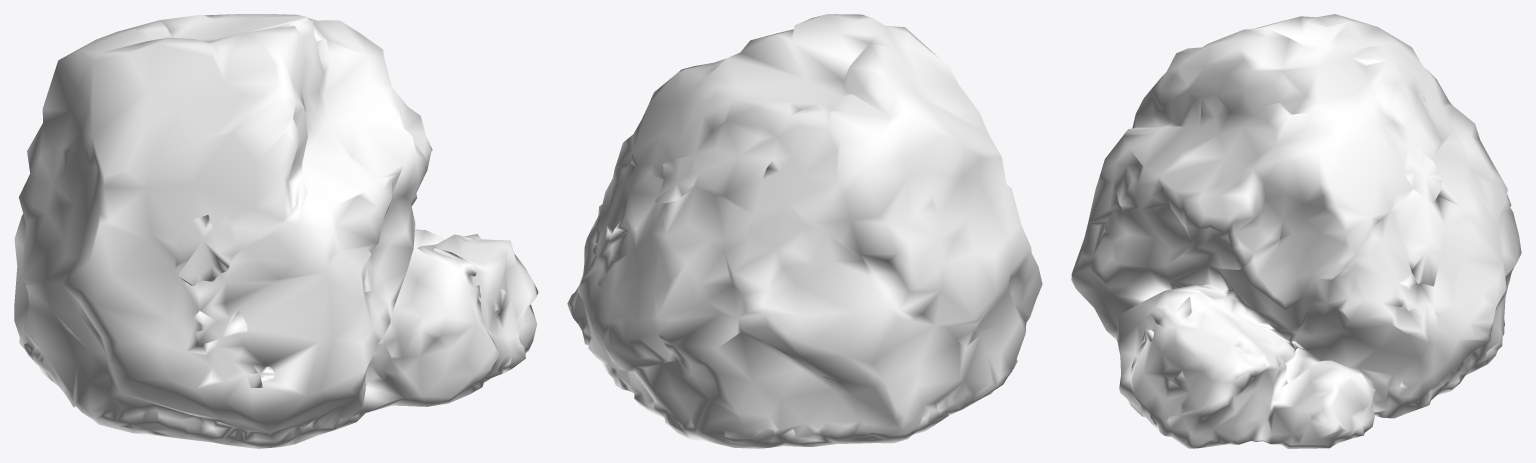
The model's file is boulder.glb.
3 renders of one model, left to right at view 1: azimuth 30°, elevation 25°; view 2: azimuth 150°, elevation 25°; view 3: azimuth 270°, elevation 25°, orthographic. The views are drawn at different scales.
Parts seen in each view (by area): view 1: boulder; view 2: boulder; view 3: boulder.
Boxes of the visible parts, left/top/right/bottom form: boulder: left=14, top=14, right=538, bottom=448; boulder: left=567, top=14, right=1042, bottom=448; boulder: left=1071, top=14, right=1521, bottom=448.
Size of the model in its own units: 2.1 by 1.57 by 2.07.
Materials: 1 (1 with a texture image).
